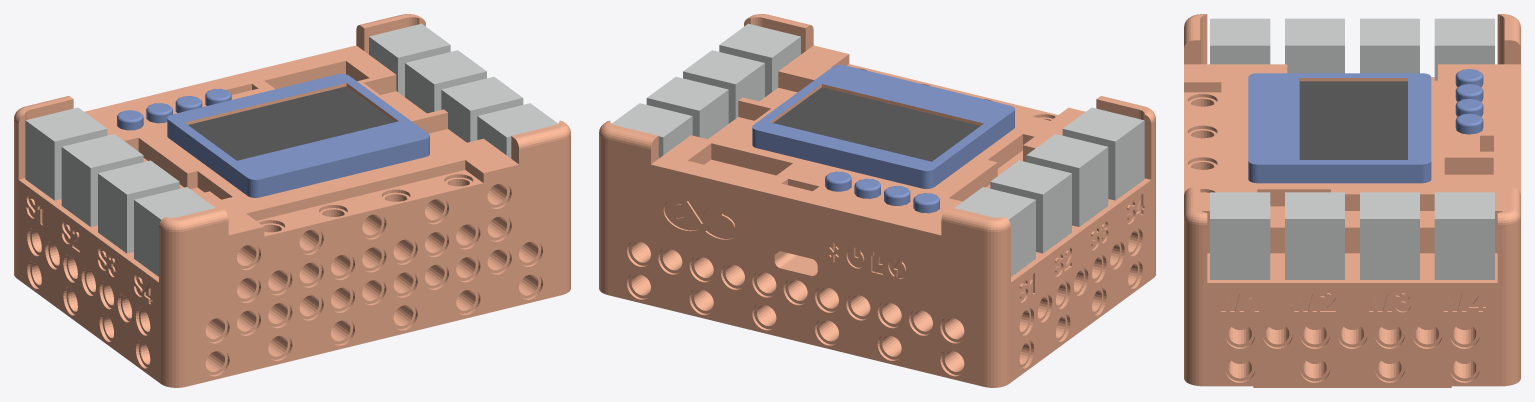
File: EvoModel.glb
The picture shows the model from 3 angles, left to right: view 1: azimuth 30°, elevation 25°; view 2: azimuth 150°, elevation 25°; view 3: azimuth 270°, elevation 25°; orthographic projection. The views are drawn at different scales.
Parts seen in each view (by area): view 1: EVOmodel; view 2: EVOmodel; view 3: EVOmodel.
Boxes of the visible parts, box(x1,y1,x2,y2) form: EVOmodel: box(14, 14, 570, 387); EVOmodel: box(599, 14, 1155, 387); EVOmodel: box(1184, 14, 1520, 387).
Size of the model in its own units: 104 by 45.98 by 71.99.
